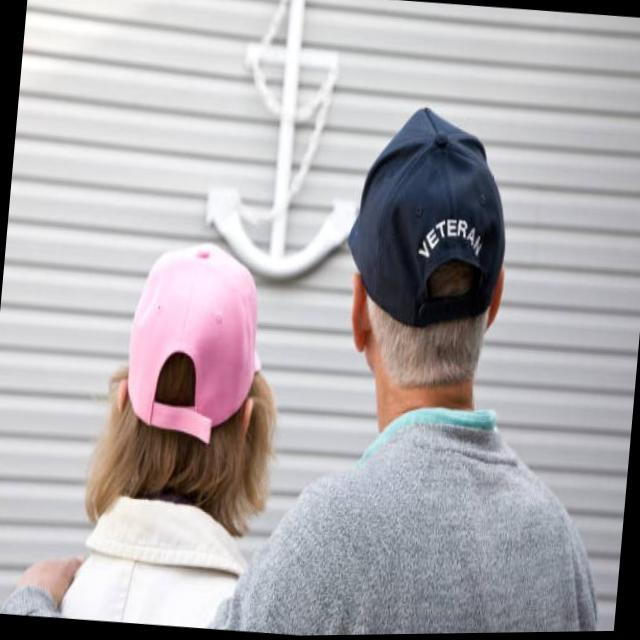no helmet: (318, 88, 532, 399), (99, 224, 294, 523)
